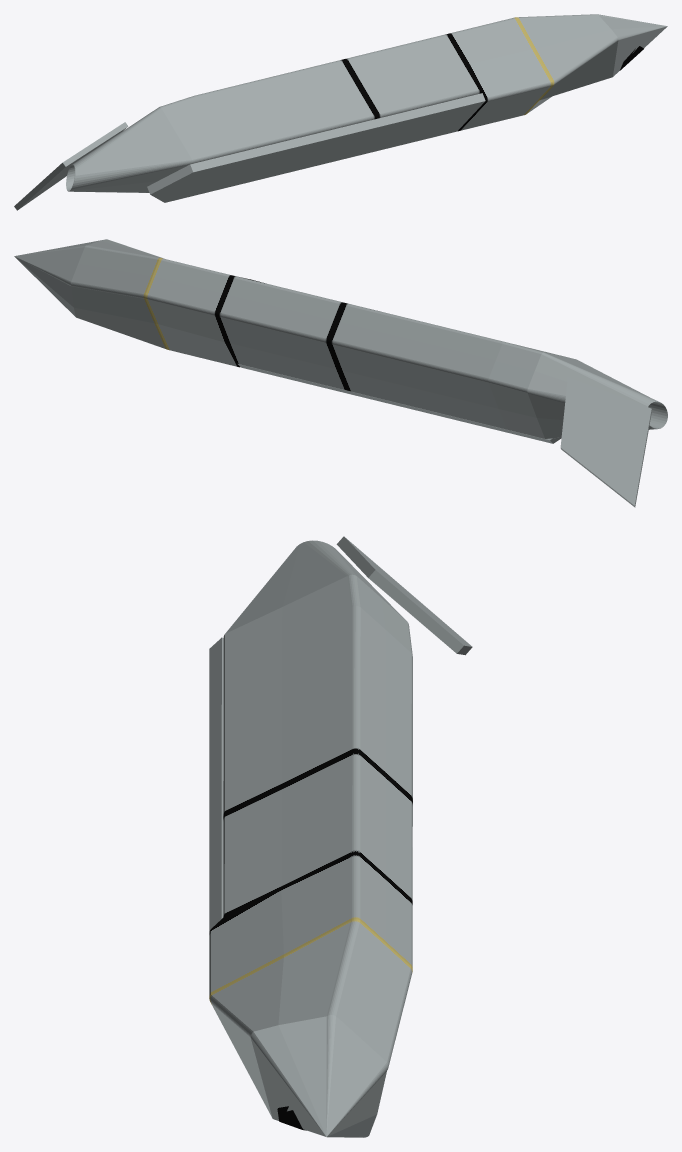
File: b2aagm15816.glb
The picture shows the model from 3 angles, top to bottom: view 1: azimuth 30°, elevation 25°; view 2: azimuth 150°, elevation 25°; view 3: azimuth 270°, elevation 25°; orthographic projection. The views are drawn at different scales.
Parts seen in each view (by area): view 1: 立方体.011; view 2: 立方体.011; view 3: 立方体.011.
Boxes of the visible parts, x1,y1,x2,y2 form: 立方体.011: [14, 14, 667, 210]; 立方体.011: [14, 239, 667, 507]; 立方体.011: [209, 536, 472, 1137].
Bounding box in the file's own units: 5.42 × 0.8236 × 1.
Materials: 4 (1 with a texture image).
